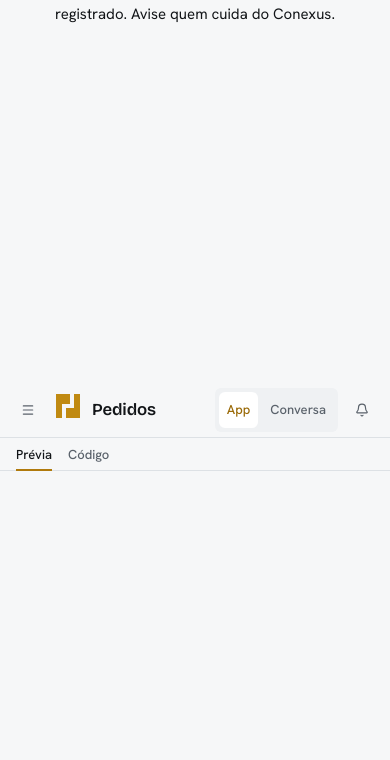
Test case: celular de verdade: a gaveta tem as mesmas entradas da barra do Projeto
The image size is (390, 760).
(page scrolled)
Click the button named "Abrir navegação" at (28, 410), box [12,394,44,426]
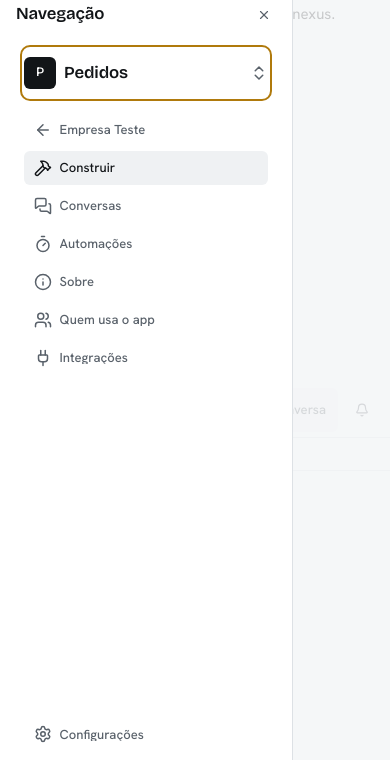
Expected: the link "Construir" is shown, [24,151,268,185]
Expected: the link "Sobre" is shown, [34,273,94,291]
Expected: the link "Quem usa o app" is shown, [34,311,155,329]
